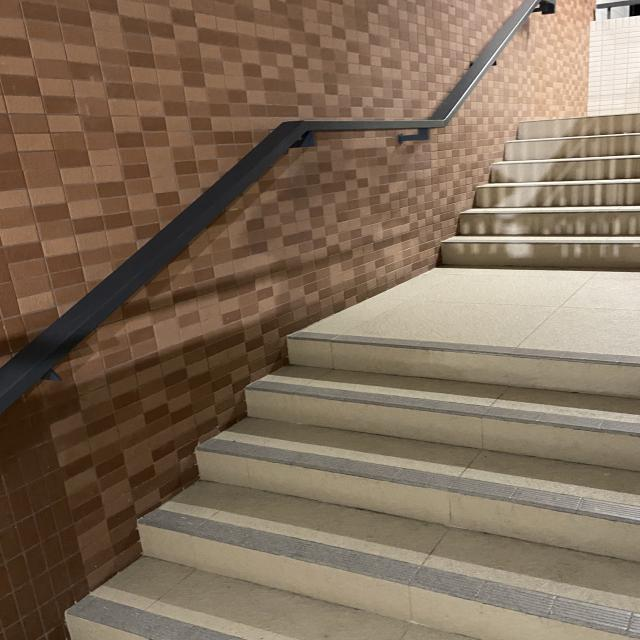Stairs: (60, 327, 640, 640), (424, 105, 640, 281)
